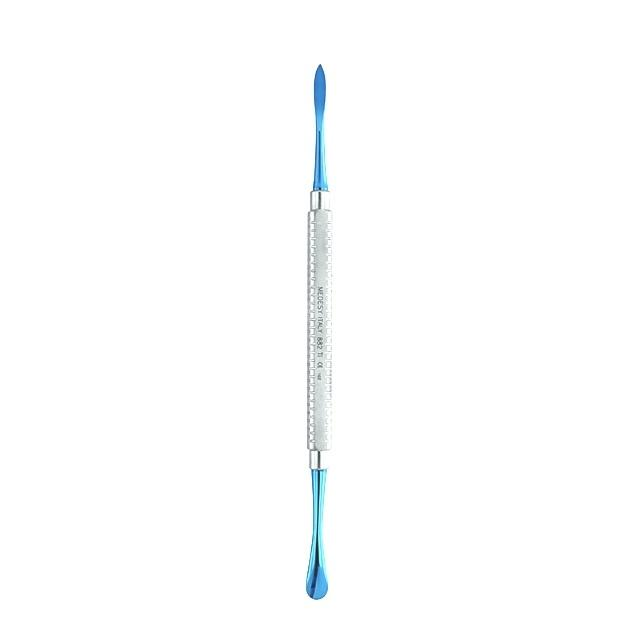elevador: (304, 63, 339, 605)
